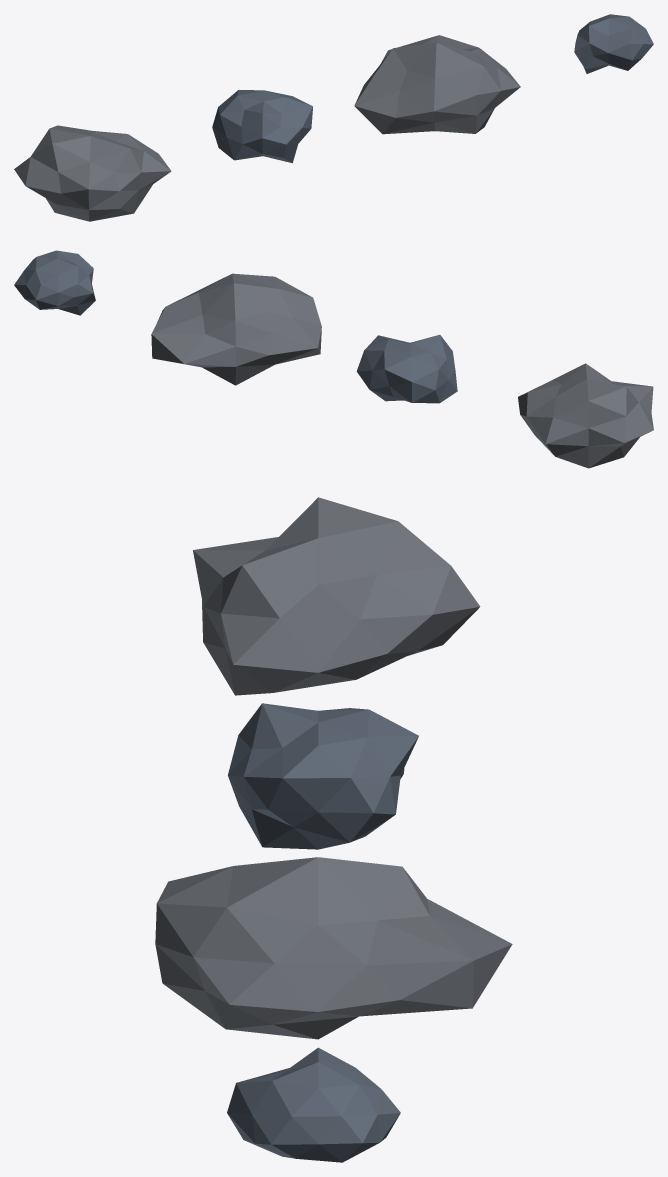
The model's file is rocks.glb.
3 renders of one model, top to bottom at view 1: azimuth 30°, elevation 25°; view 2: azimuth 150°, elevation 25°; view 3: azimuth 270°, elevation 25°, orthographic. The views are drawn at different scales.
Visible parts, largest first — view 1: world; view 2: world; view 3: world.
Part boxes in pixels (x1,y1,x2,y2): world: (14,14,653,221); world: (14,250,653,468); world: (155,497,512,1162).
Bounding box in the file's own units: 2.5 × 0.3186 × 0.6267.
